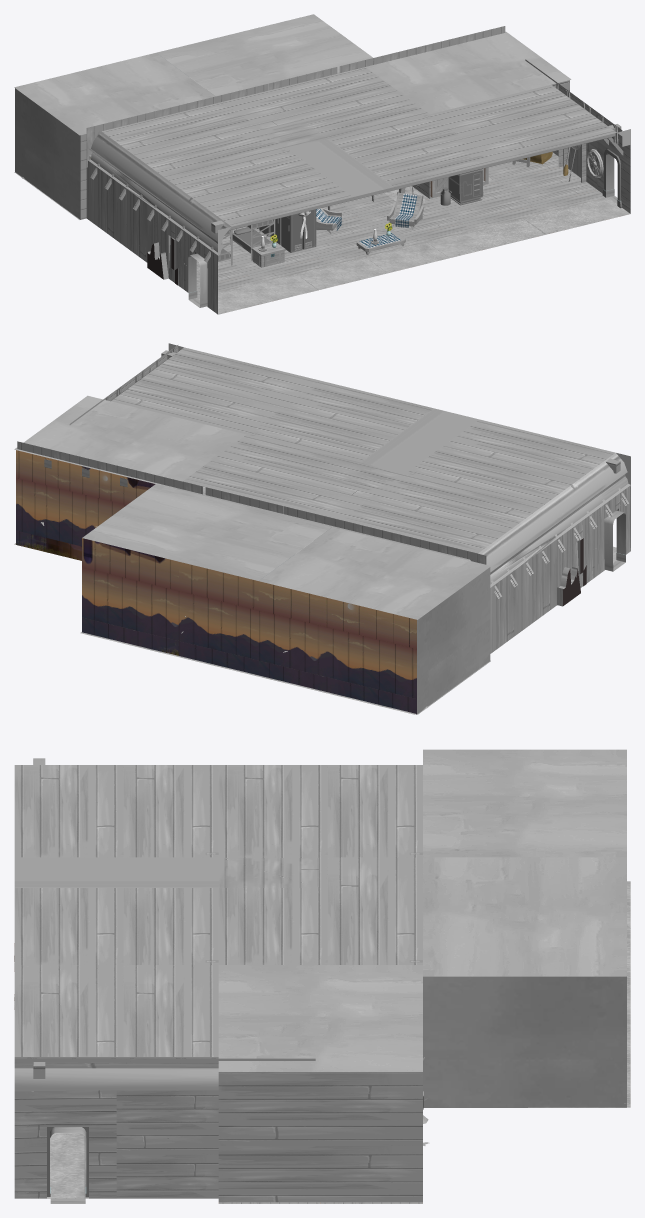
File: MSH_LivingQuarters_L3_R3_Vault33_optimized.fbx
3 views of the same model, one above another, from view 1: azimuth 30°, elevation 25°; view 2: azimuth 150°, elevation 25°; view 3: azimuth 270°, elevation 25° (orthographic). The views are drawn at different scales.
Visible parts, largest first — view 1: lightmap0, lightmap1, lightmap3, lightmap4, lightmap2; view 2: lightmap0, lightmap1, lightmap2, lightmap3; view 3: lightmap0, lightmap1, lightmap3, lightmap2.
Boxes of the visible parts, <box> form: lightmap0: <box>14,14,621,233</box>; lightmap1: <box>15,26,630,314</box>; lightmap3: <box>14,152,629,314</box>; lightmap4: <box>90,143,603,267</box>; lightmap2: <box>21,149,622,307</box>; lightmap0: <box>14,347,620,619</box>; lightmap1: <box>16,345,630,714</box>; lightmap2: <box>41,508,625,709</box>; lightmap3: <box>14,543,617,714</box>; lightmap0: <box>14,749,626,1078</box>; lightmap1: <box>14,976,626,1202</box>; lightmap3: <box>14,881,630,1203</box>; lightmap2: <box>47,925,630,1203</box>.
Bounding box in the file's own units: 30.92 × 6.47 × 24.96.
10 materials, 8 textured.
